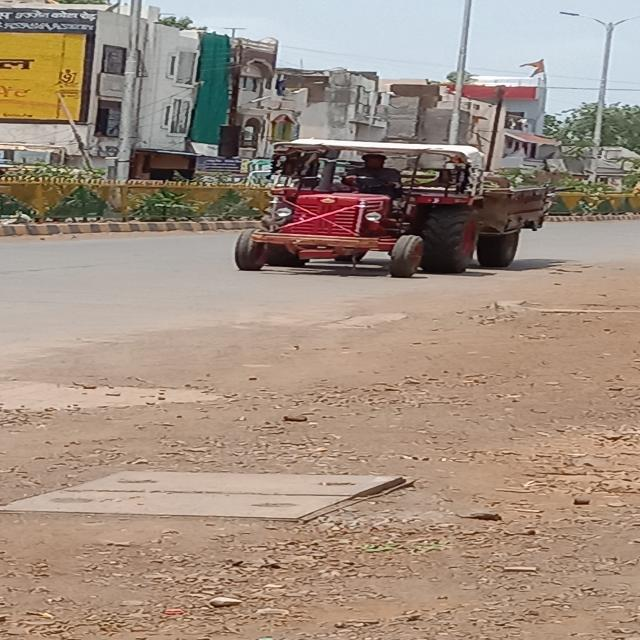Tractor: (206, 132, 562, 293)
